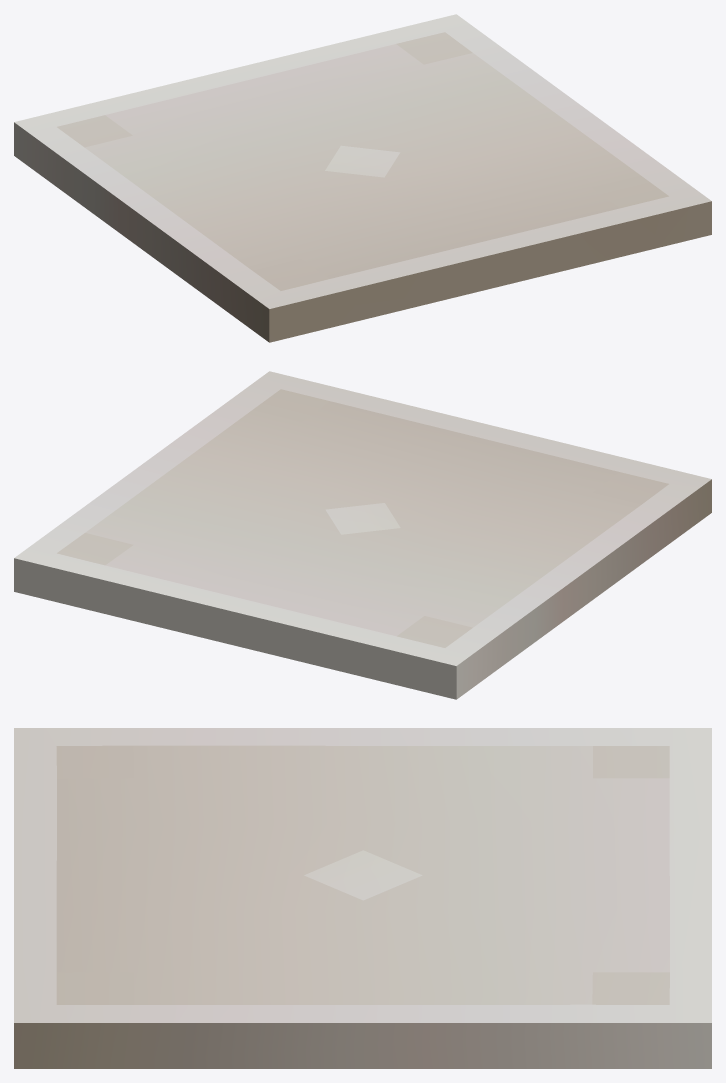
The model's file is M_FloorTile_02.fbx.
The picture shows the model from 3 angles, top to bottom: view 1: azimuth 30°, elevation 25°; view 2: azimuth 150°, elevation 25°; view 3: azimuth 270°, elevation 25°; orthographic projection. The views are drawn at different scales.
Visible parts, largest first — view 1: M_FloorTile_02; view 2: M_FloorTile_02; view 3: M_FloorTile_02.
Part boxes in pixels (<box>): M_FloorTile_02: <box>14,14,711,342</box>; M_FloorTile_02: <box>14,371,711,699</box>; M_FloorTile_02: <box>14,728,711,1068</box>.
Bounding box in the file's own units: 327 × 23.73 × 327.
1 material, 1 textured.
